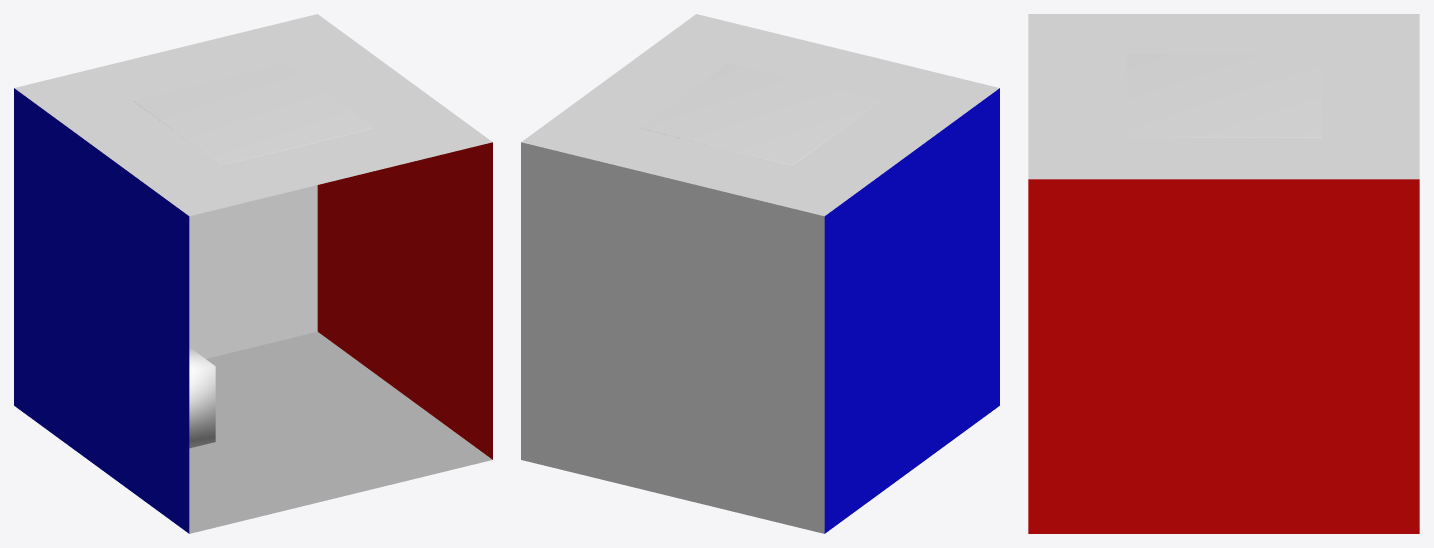
The model's file is stanfordbox.dae.
3 renders of one model, left to right at view 1: azimuth 30°, elevation 25°; view 2: azimuth 150°, elevation 25°; view 3: azimuth 270°, elevation 25°, orthographic. The views are drawn at different scales.
Parts seen in each view (by area): view 1: Plane.001, Plane.002, Plane.004, Plane, Plane.003, Cube.001, Cube; view 2: Plane.003, Plane.001, Plane.004, Cube.001; view 3: Plane.002, Plane.004, Cube.001.
Boxes of the visible parts, <box> form: Plane.001: <box>14,88,189,533</box>; Plane.002: <box>317,142,492,459</box>; Plane.004: <box>14,14,492,216</box>; Plane: <box>189,331,492,533</box>; Plane.003: <box>189,185,317,358</box>; Cube.001: <box>133,63,373,165</box>; Cube: <box>189,347,215,448</box>; Plane.003: <box>521,142,824,533</box>; Plane.001: <box>824,88,999,533</box>; Plane.004: <box>521,14,999,216</box>; Cube.001: <box>640,63,880,165</box>; Plane.002: <box>1028,179,1419,533</box>; Plane.004: <box>1028,14,1419,179</box>; Cube.001: <box>1126,53,1321,137</box>.
Size of the model in its own units: 4 by 4.07 by 4.
